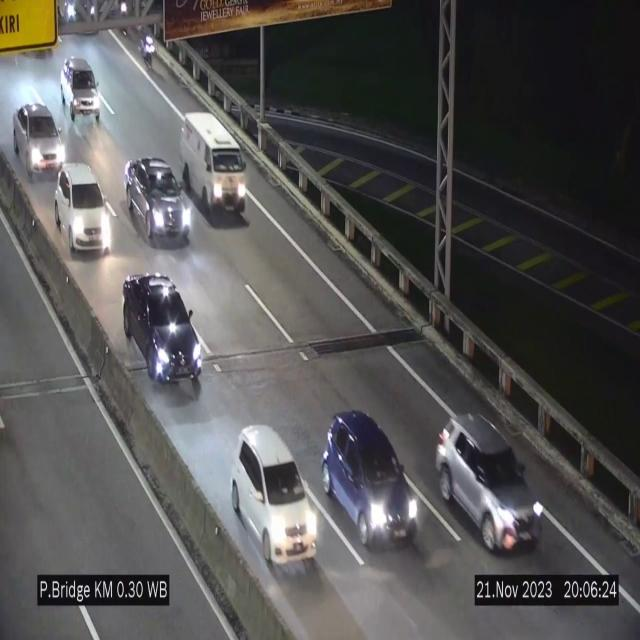Car: (321, 410, 423, 564), (436, 413, 545, 551), (230, 426, 318, 576), (123, 272, 204, 388), (180, 114, 247, 225), (124, 158, 188, 246), (55, 161, 113, 254), (13, 102, 68, 182), (56, 59, 106, 124)
Motorcycle: (139, 27, 155, 80)
